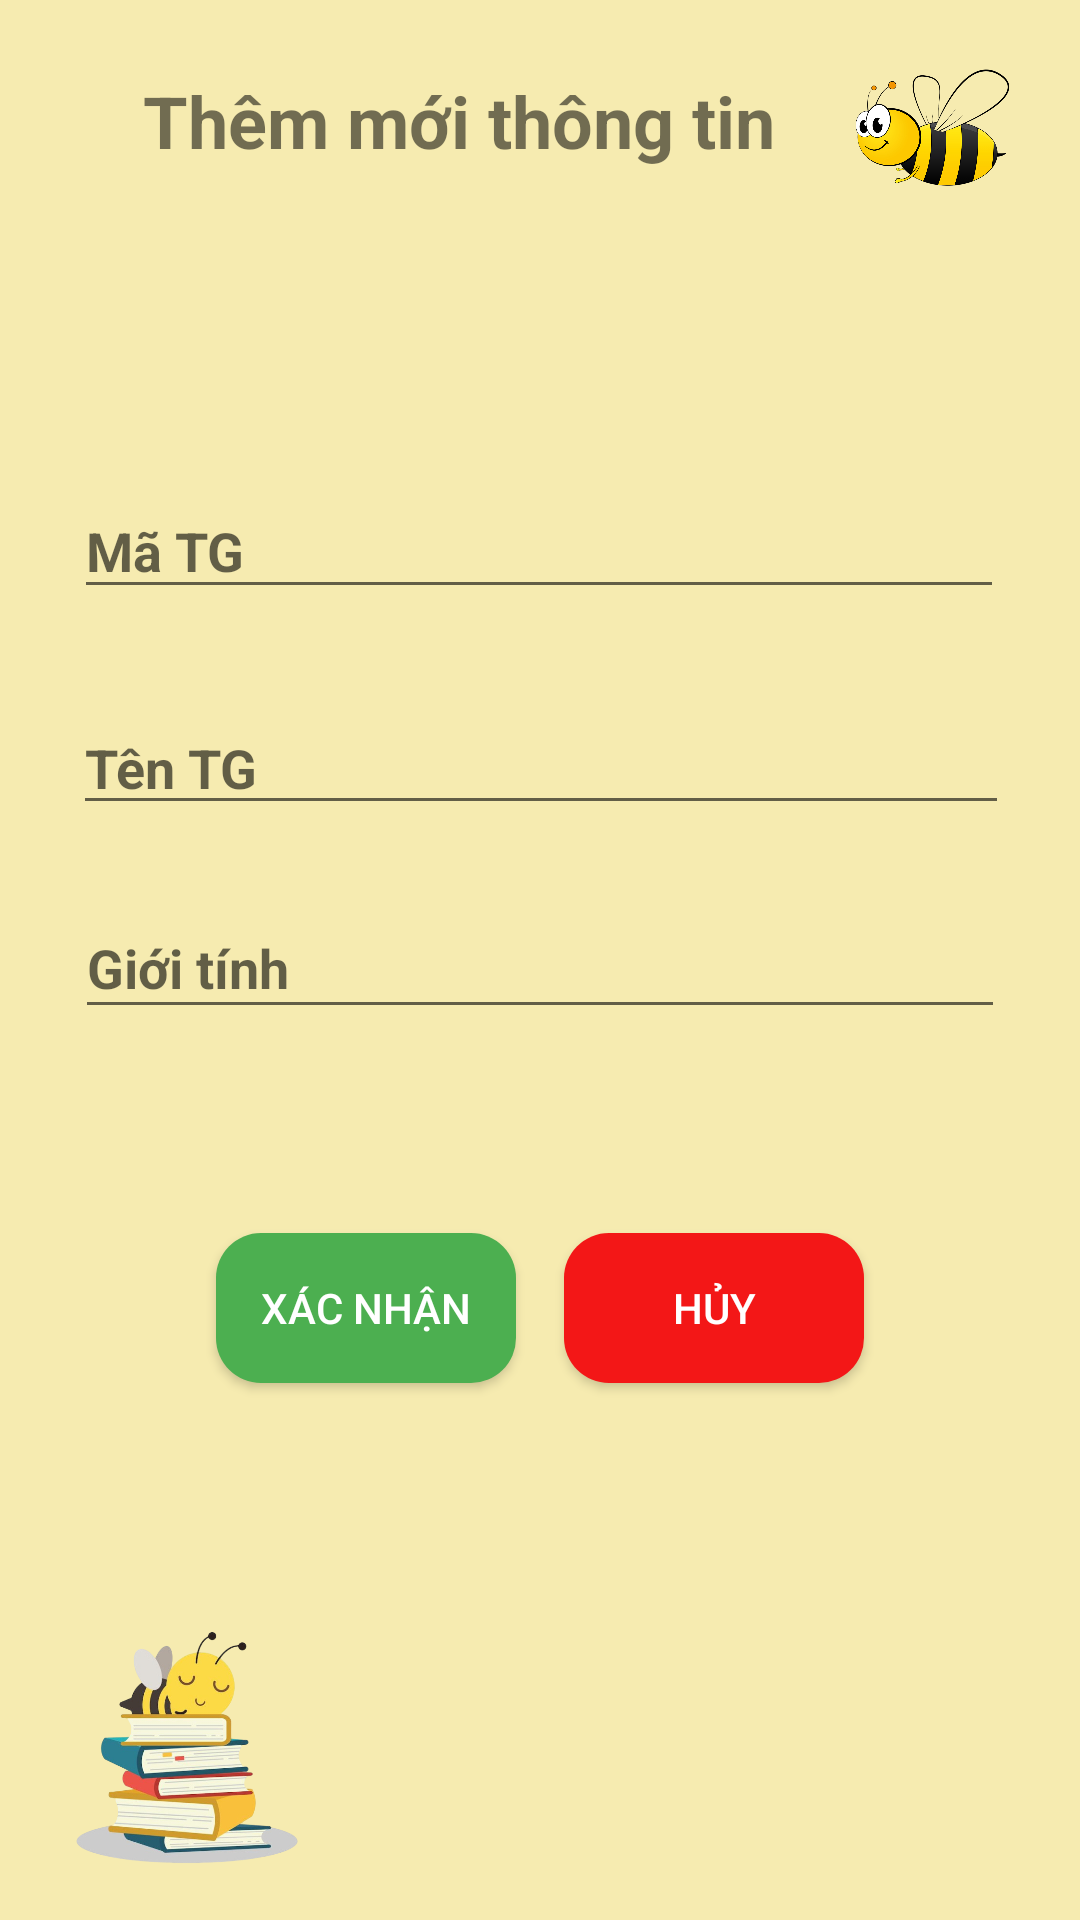

Icons on this 1080px x 1920px Android screen, each with the point to tap as point (x, y):
ong: point (932, 127)
ongsach: point (187, 1747)
